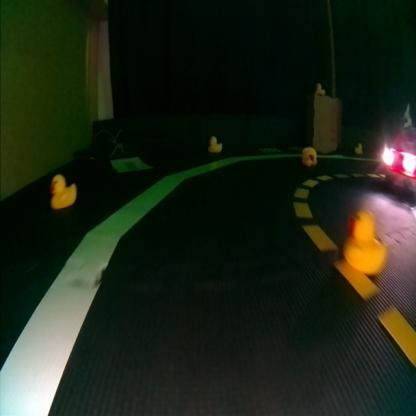Duckie: (346, 212, 387, 272), (52, 174, 78, 208), (302, 146, 316, 166), (210, 136, 222, 152), (317, 82, 325, 94), (356, 143, 364, 153)
Duckiebot: (383, 127, 415, 191)
